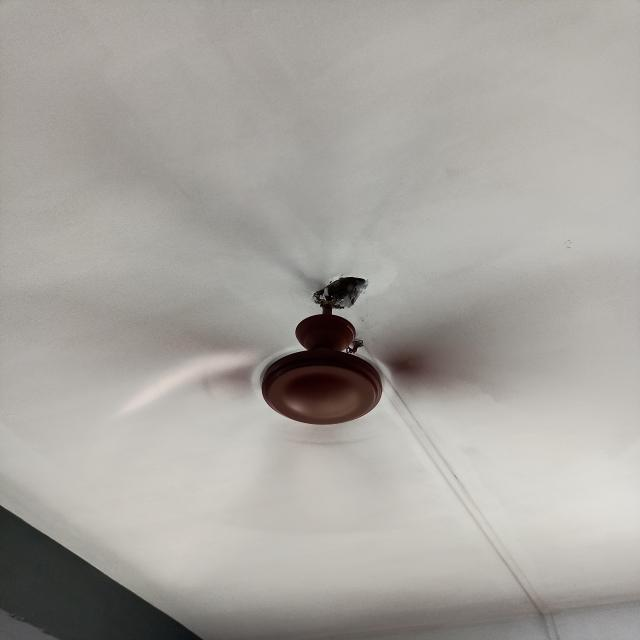fan: (1, 2, 622, 550)
light: (258, 275, 383, 425)
